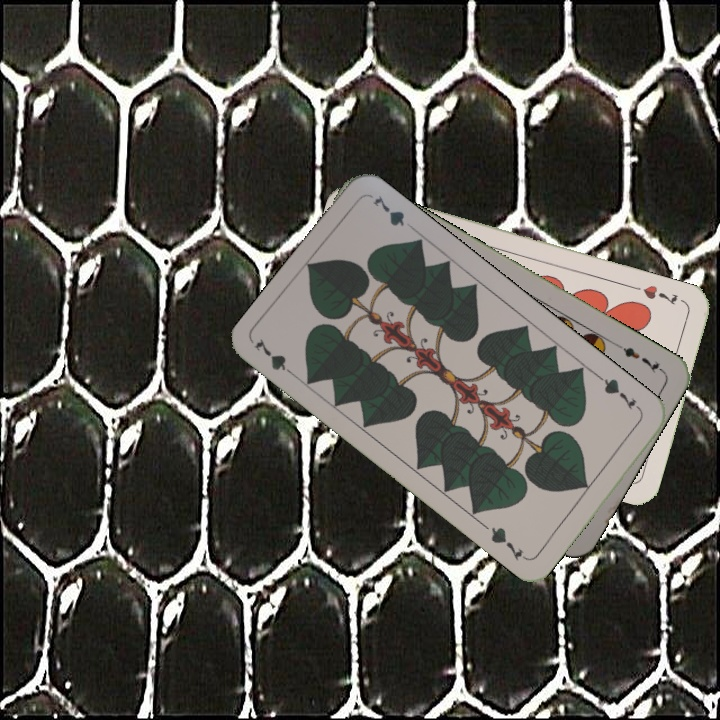E7: (612, 340, 667, 376)
G7: (250, 334, 301, 382), (595, 372, 644, 415)
H7: (639, 281, 680, 308)
